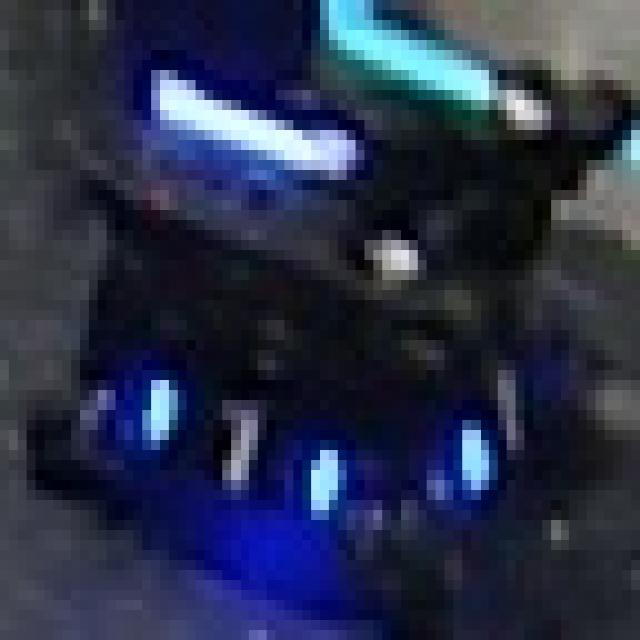B1: (125, 360, 346, 530)
